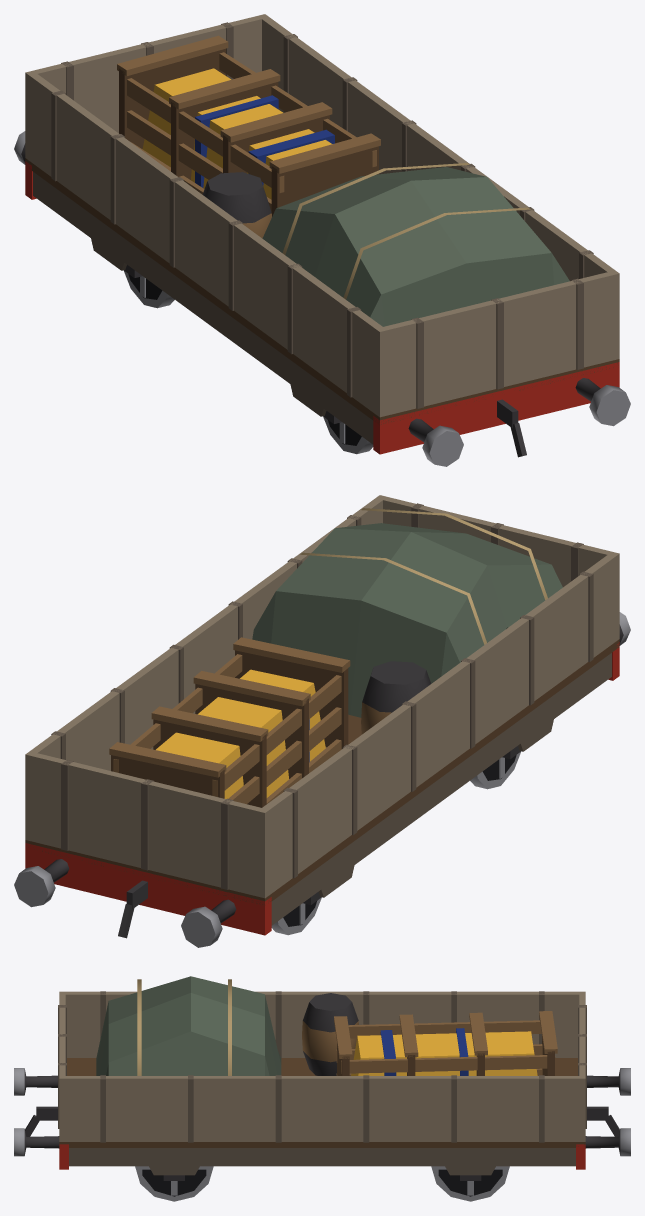
File: wagon_finds.glb
3 views of the same model, one above another, from view 1: azimuth 30°, elevation 25°; view 2: azimuth 150°, elevation 25°; view 3: azimuth 270°, elevation 25° (orthographic). The views are drawn at different scales.
Parts seen in each view (by area): view 1: Body, Wheel1, Wheel2; view 2: Body, Wheel2, Wheel1; view 3: Body, Wheel1, Wheel2.
Boxes of the visible parts, left/top/right/bottom form: Body: left=14, top=14, right=630, bottom=466; Wheel1: left=123, top=270, right=174, bottom=308; Wheel2: left=323, top=416, right=373, bottom=454; Body: left=14, top=495, right=630, bottom=947; Wheel2: left=470, top=751, right=521, bottom=789; Wheel1: left=271, top=897, right=321, bottom=935; Body: left=14, top=976, right=630, bottom=1180; Wheel1: left=431, top=1166, right=509, bottom=1201; Wheel2: left=135, top=1166, right=213, bottom=1201.
Bounding box in the file's own units: 2.53 × 2.42 × 7.5.
